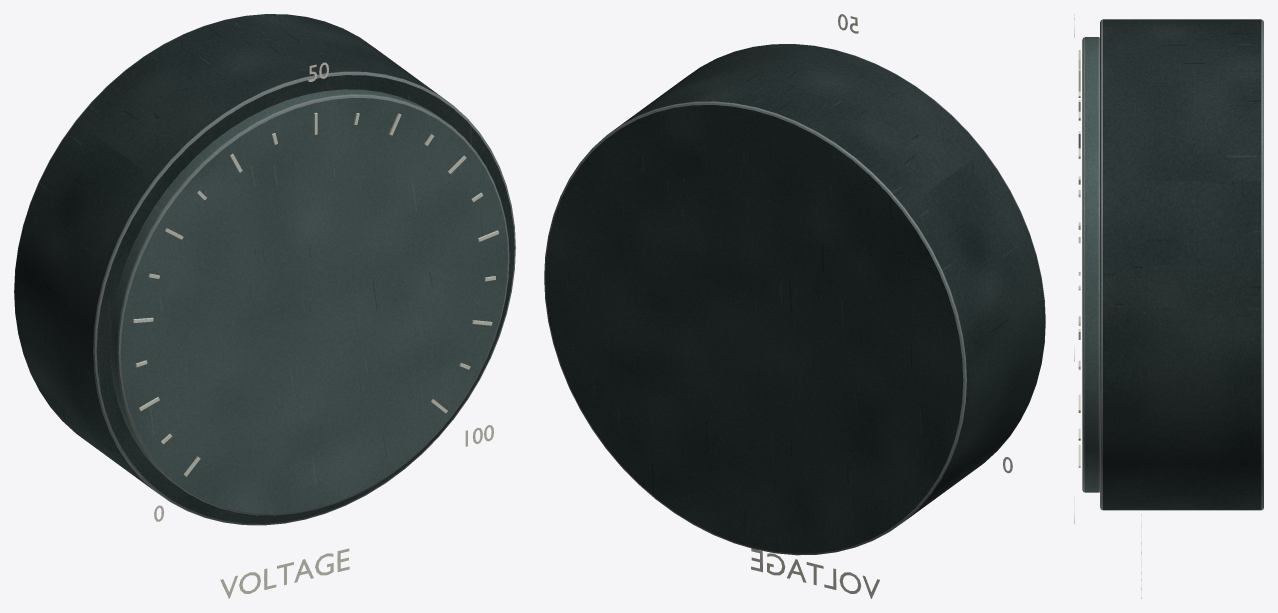
File: VOLTAGE_Housing.fbx
3 renders of one model, left to right at view 1: azimuth 30°, elevation 25°; view 2: azimuth 150°, elevation 25°; view 3: azimuth 270°, elevation 25°, orthographic.
Visible parts, largest first — view 1: VOLTAGE_Housing__Visual; view 2: VOLTAGE_Housing__Visual; view 3: VOLTAGE_Housing__Visual.
Part boxes in pixels (box(x1,y1,x2,y2)): VOLTAGE_Housing__Visual: box(14, 14, 515, 598); VOLTAGE_Housing__Visual: box(544, 14, 1045, 598); VOLTAGE_Housing__Visual: box(1074, 14, 1263, 598).
Bounding box in the file's own units: 0.36 × 0.4442 × 0.1392.
